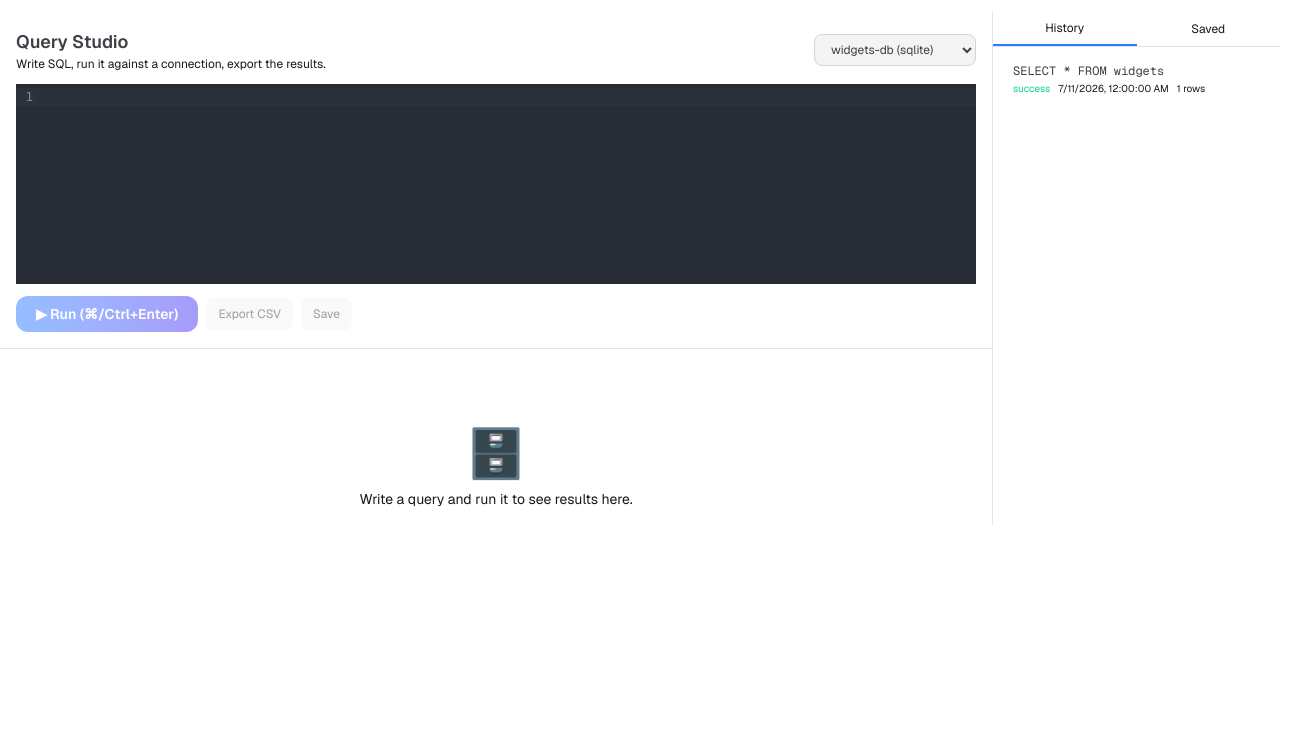
Test: SqlWorkspaceView › runs a query from a loaded history entry and renders the results table
This screenshot has width=1292, height=732.
What coordinates should you click on to do the following:
click the text "SELECT * FROM widgets"
I would click on:
 (1089, 71)
Its box is [1013,63,1164,79].
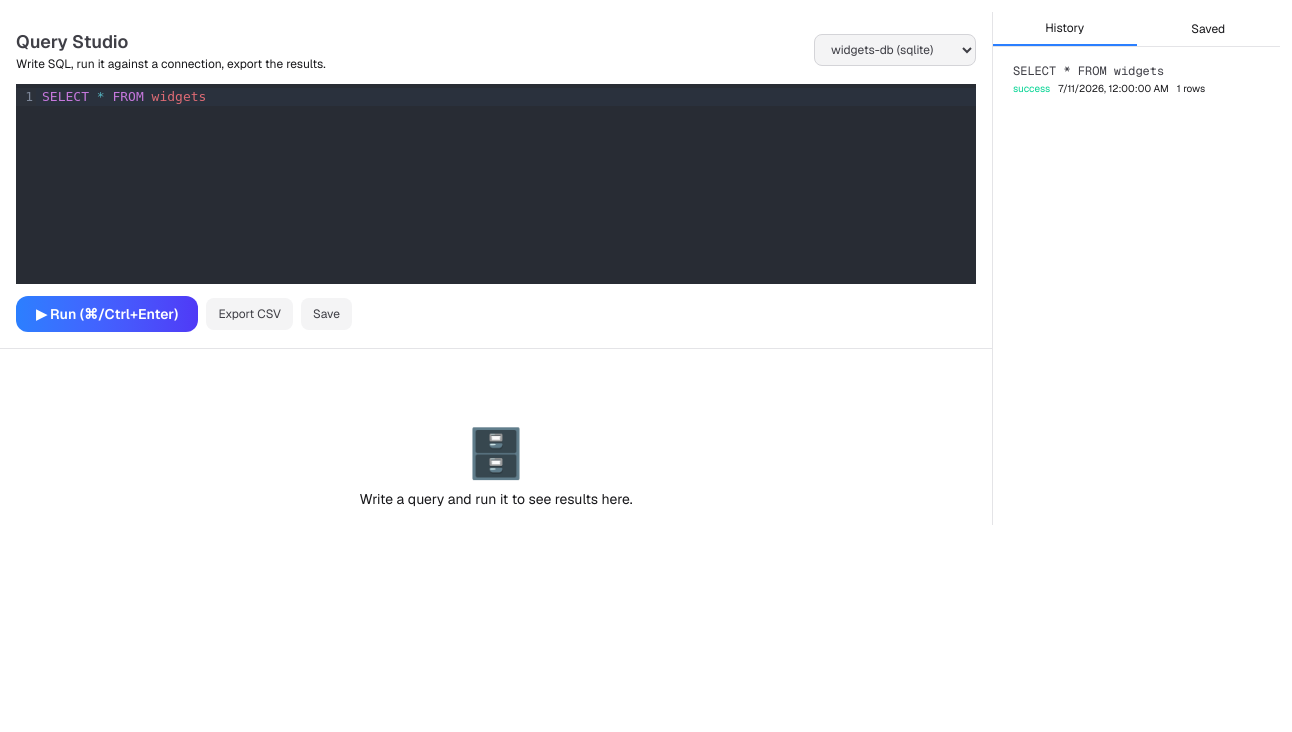
What coordinates should you click on to do the following:
click the button "▶ Run (⌘/Ctrl+Enter)"
I would click on:
 (107, 314)
Its box is [16,296,198,332].
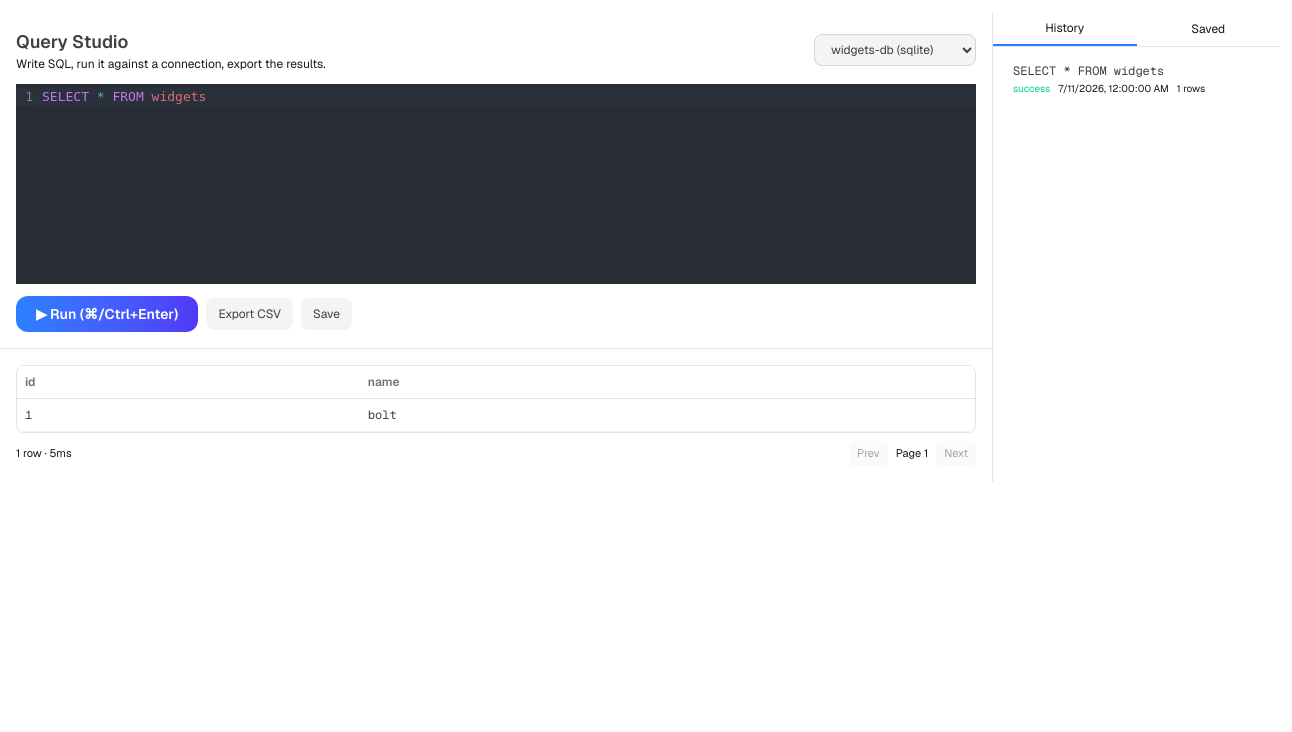
Check: the text "bolt" is shown, box [360,398,975,432]
